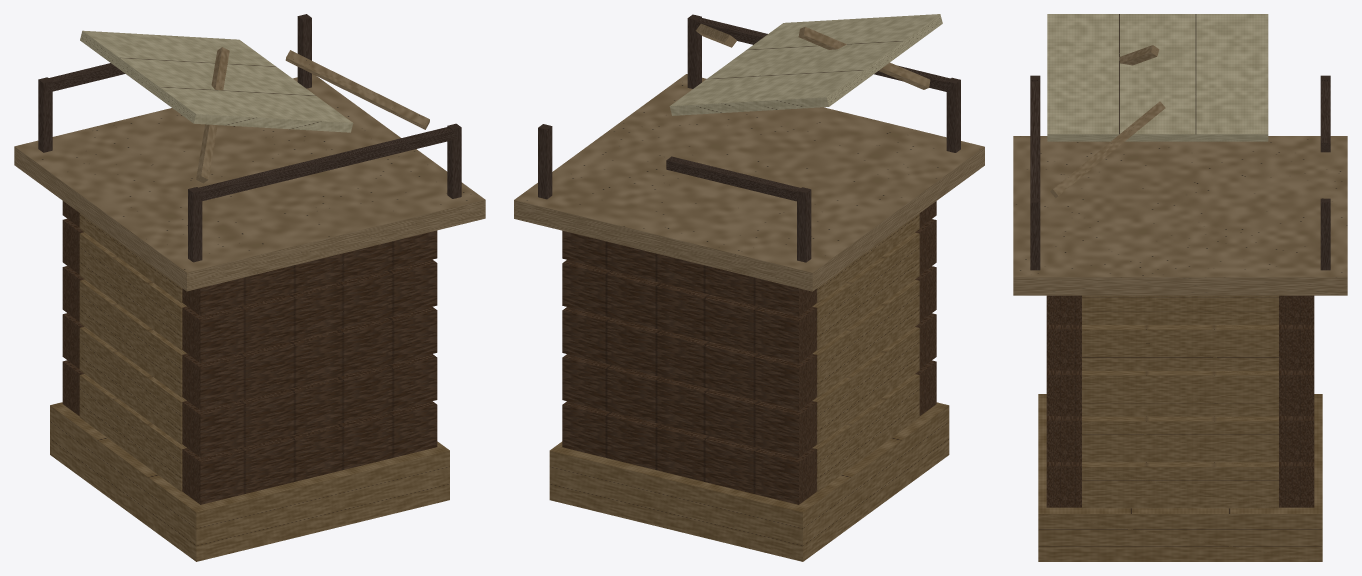
The model's file is abandoned_watchtower.glb.
The picture shows the model from 3 angles, left to right: view 1: azimuth 30°, elevation 25°; view 2: azimuth 150°, elevation 25°; view 3: azimuth 270°, elevation 25°; orthographic projection. The views are drawn at different scales.
Parts seen in each view (by area): view 1: abandoned_watchtower; view 2: abandoned_watchtower; view 3: abandoned_watchtower.
Boxes of the visible parts, x1,y1,x2,y2 form: abandoned_watchtower: [14, 14, 485, 561]; abandoned_watchtower: [514, 14, 984, 561]; abandoned_watchtower: [1013, 14, 1347, 561].
Bounding box in the file's own units: 5.3 × 7.64 × 5.3.
Materials: 1 (1 with a texture image).
